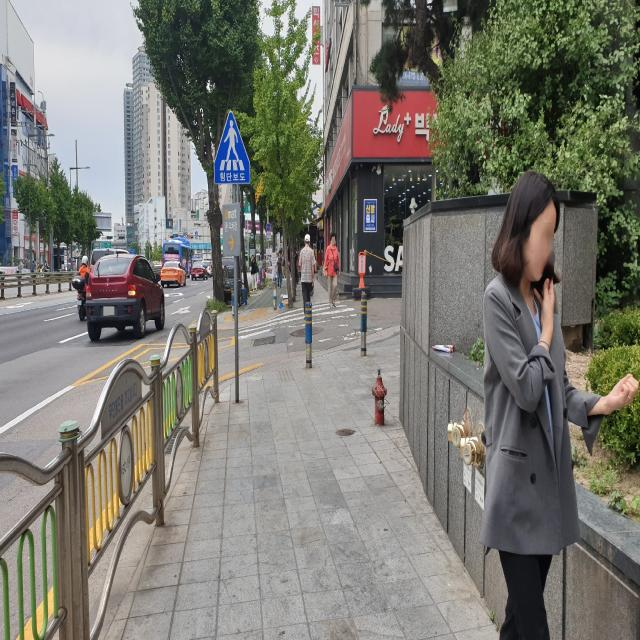횡단보도: (238, 302, 384, 347)
